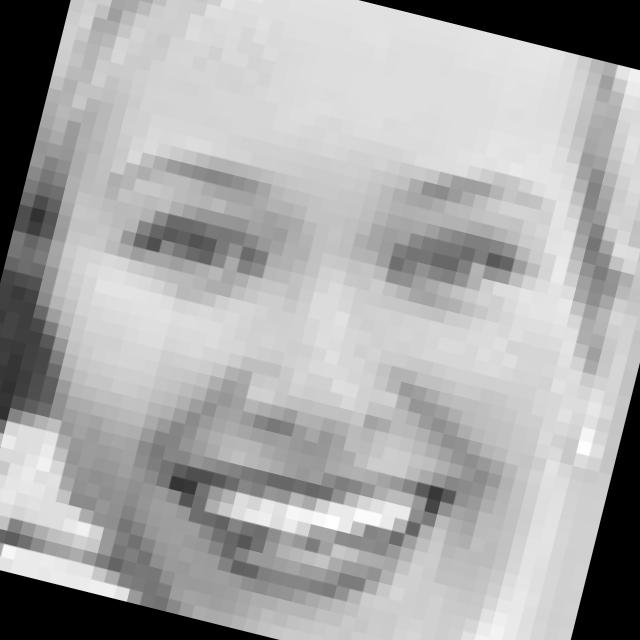happy: (28, 79, 579, 640)
